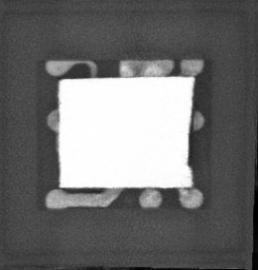DIE_BROKEN: (184, 129, 194, 169)
